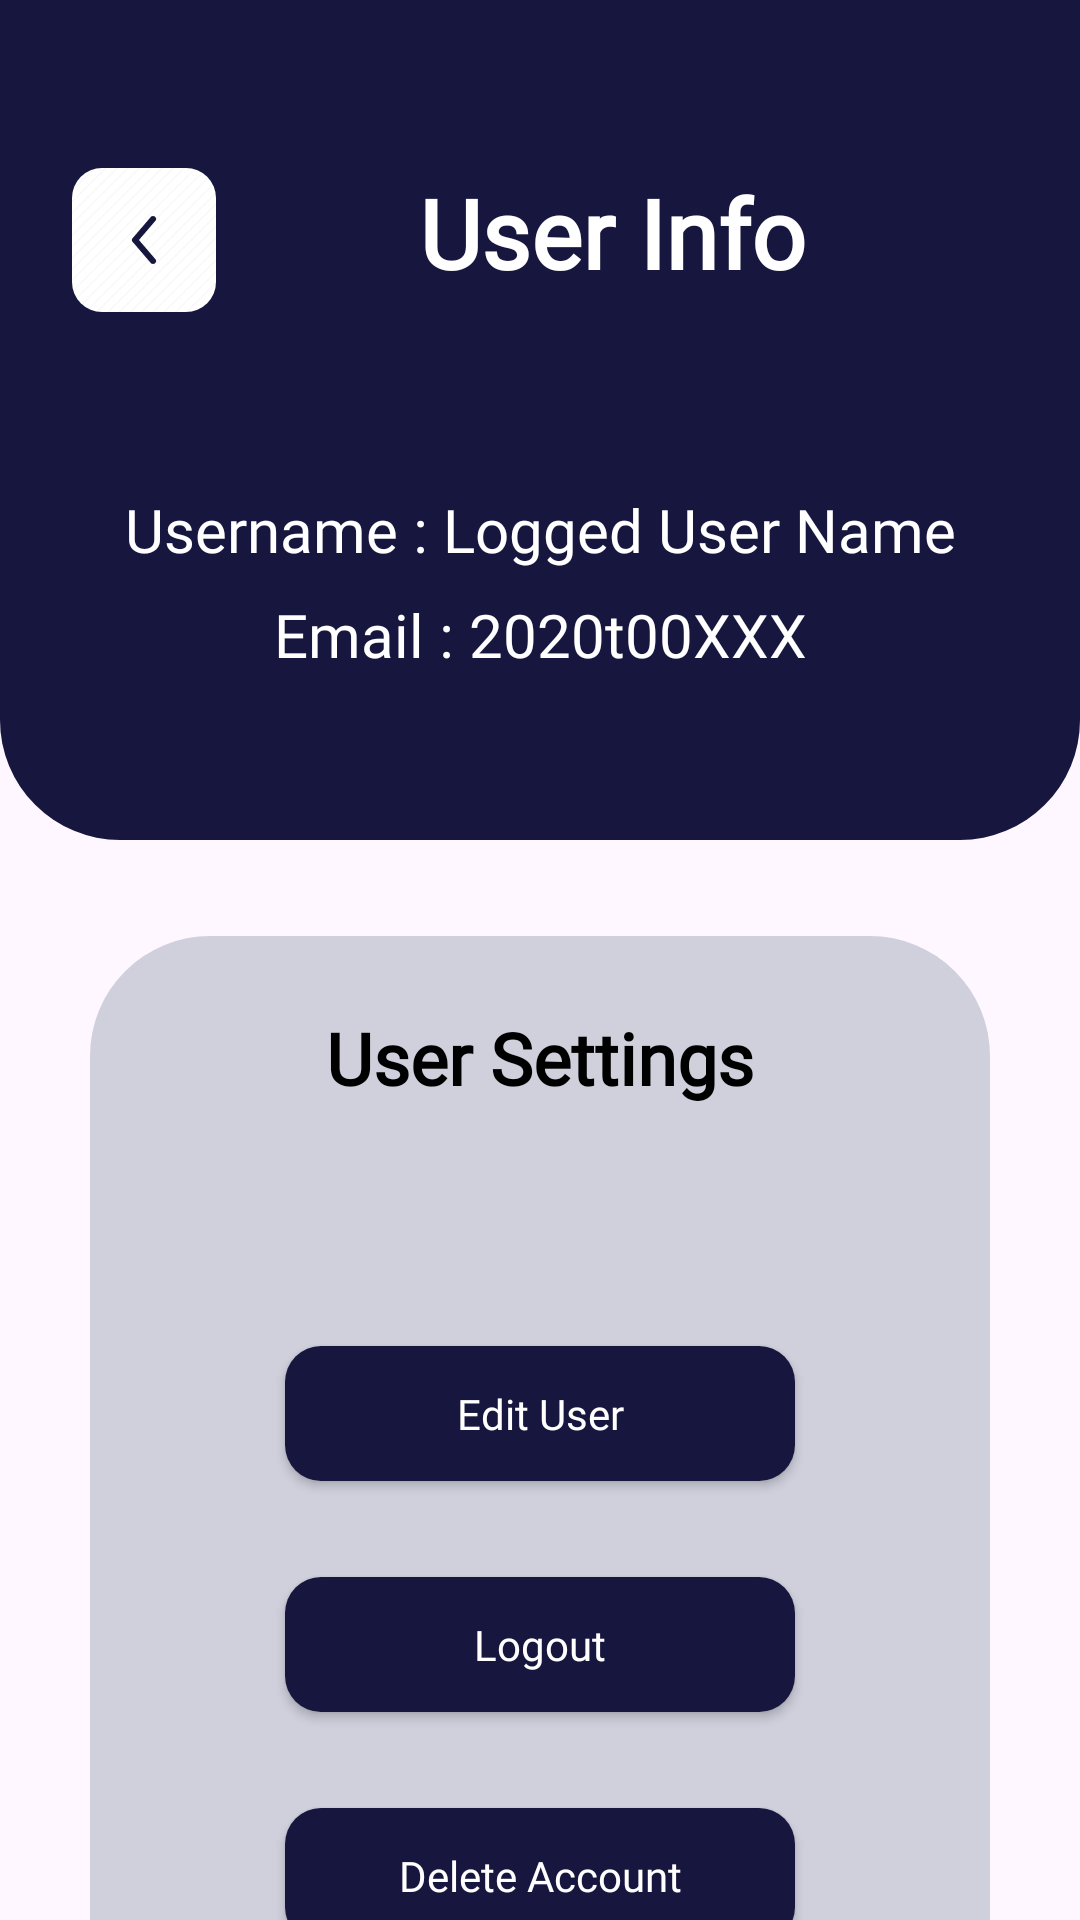

Icon click points for this 1080x1920 phone screenshot, format [x,y]:
Back: [144,240]
